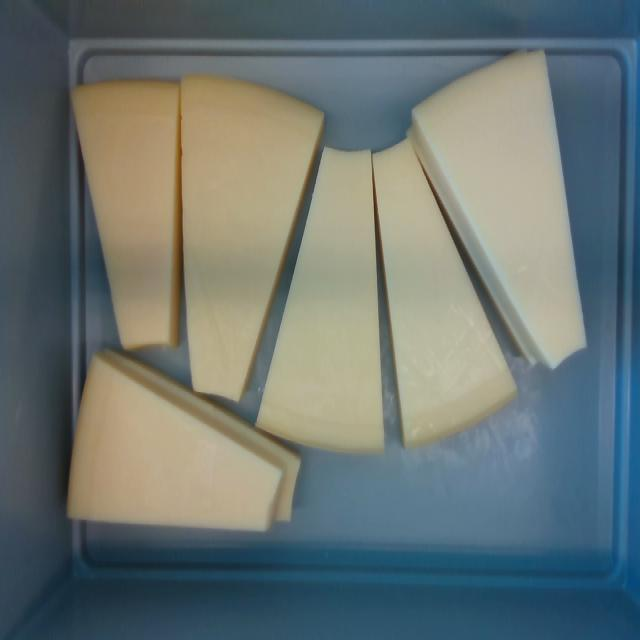Cheese: (416, 55, 581, 361), (375, 136, 514, 444), (186, 79, 322, 393), (257, 149, 383, 451), (69, 355, 279, 528), (76, 83, 174, 347)
